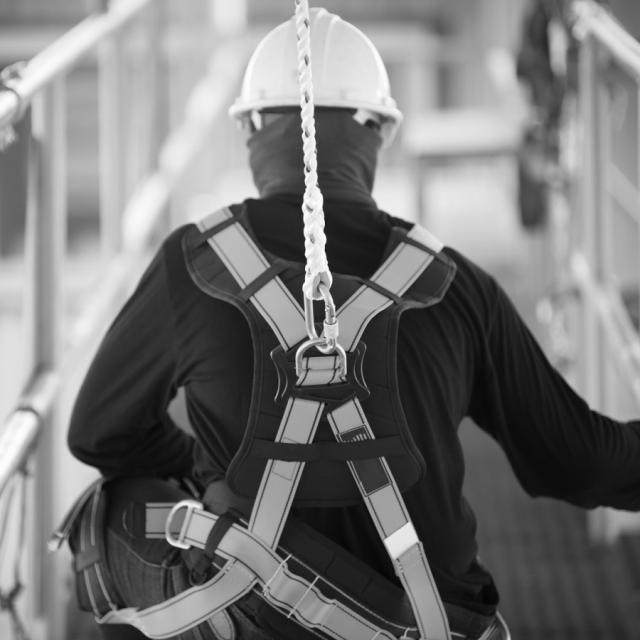safety_helmet: (229, 3, 402, 171)
